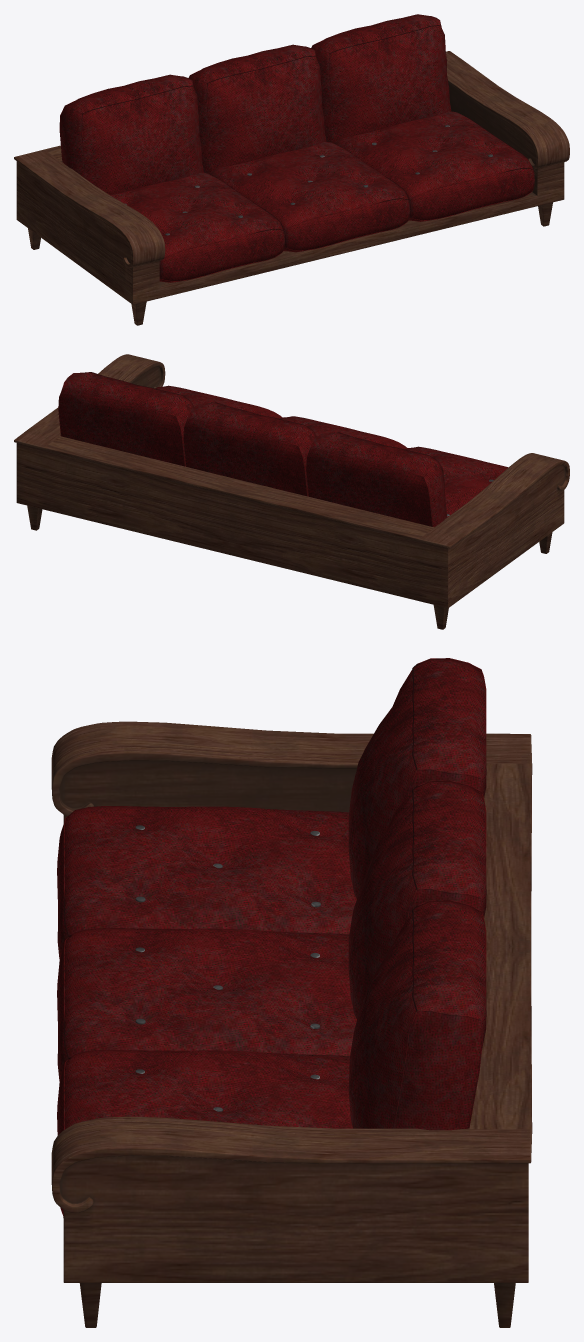
File: sofa.fbx
3 views of the same model, one above another, from view 1: azimuth 30°, elevation 25°; view 2: azimuth 150°, elevation 25°; view 3: azimuth 270°, elevation 25° (orthographic). The views are drawn at different scales.
Visible parts, largest first — view 1: Cube.019; view 2: Cube.019; view 3: Cube.019.
Part boxes in pixels (x1,y1,x2,y2): Cube.019: (14, 14, 569, 325); Cube.019: (14, 354, 569, 629); Cube.019: (51, 658, 532, 1327).
Bounding box in the file's own units: 924 × 307 × 440.
Materials: 1 (1 with a texture image).
